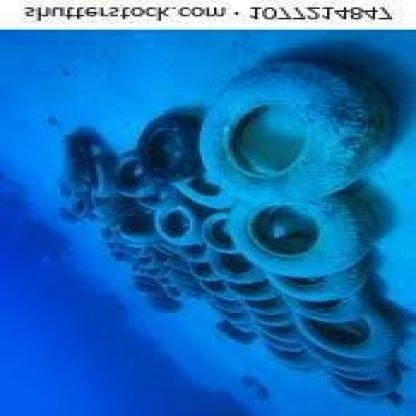tire: (219, 58, 373, 201), (214, 175, 375, 284), (281, 270, 416, 370), (147, 193, 255, 265), (99, 105, 209, 171), (224, 296, 310, 370), (96, 141, 171, 214), (195, 256, 300, 306)
